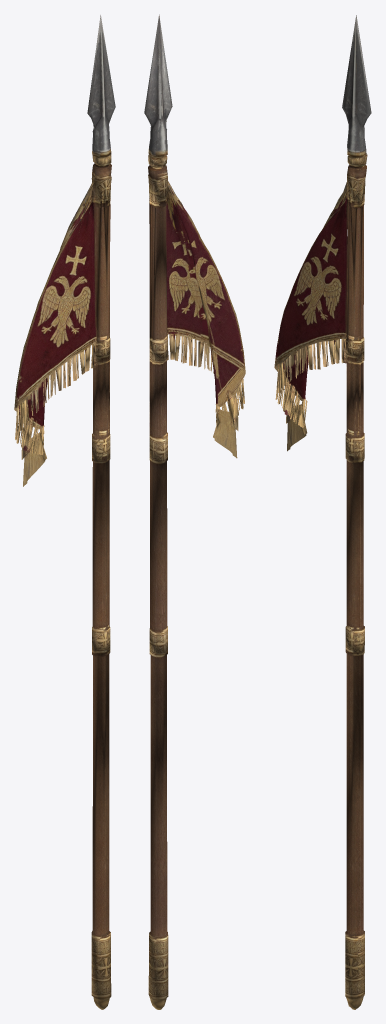
Rendered from standard-lance.glb.
3 views of the same model, side by side, from view 1: azimuth 30°, elevation 25°; view 2: azimuth 210°, elevation 25°; view 3: azimuth 330°, elevation 25° (orthographic).
Size of the model in its own units: 0.3422 by 3.3 by 0.0678.
1 material, 1 textured.
